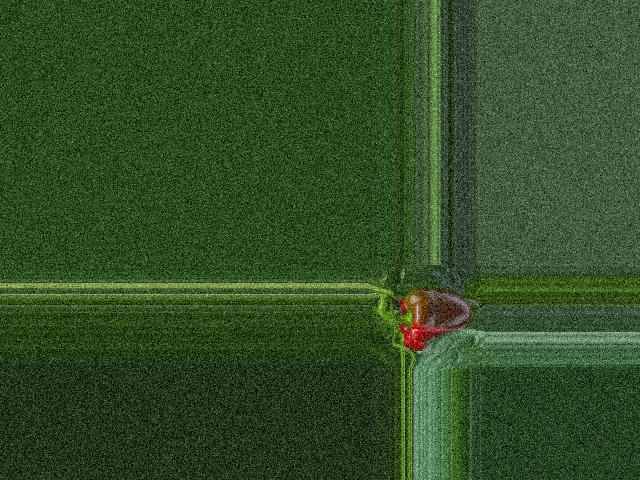bell_pepper: (389, 280, 476, 353)
